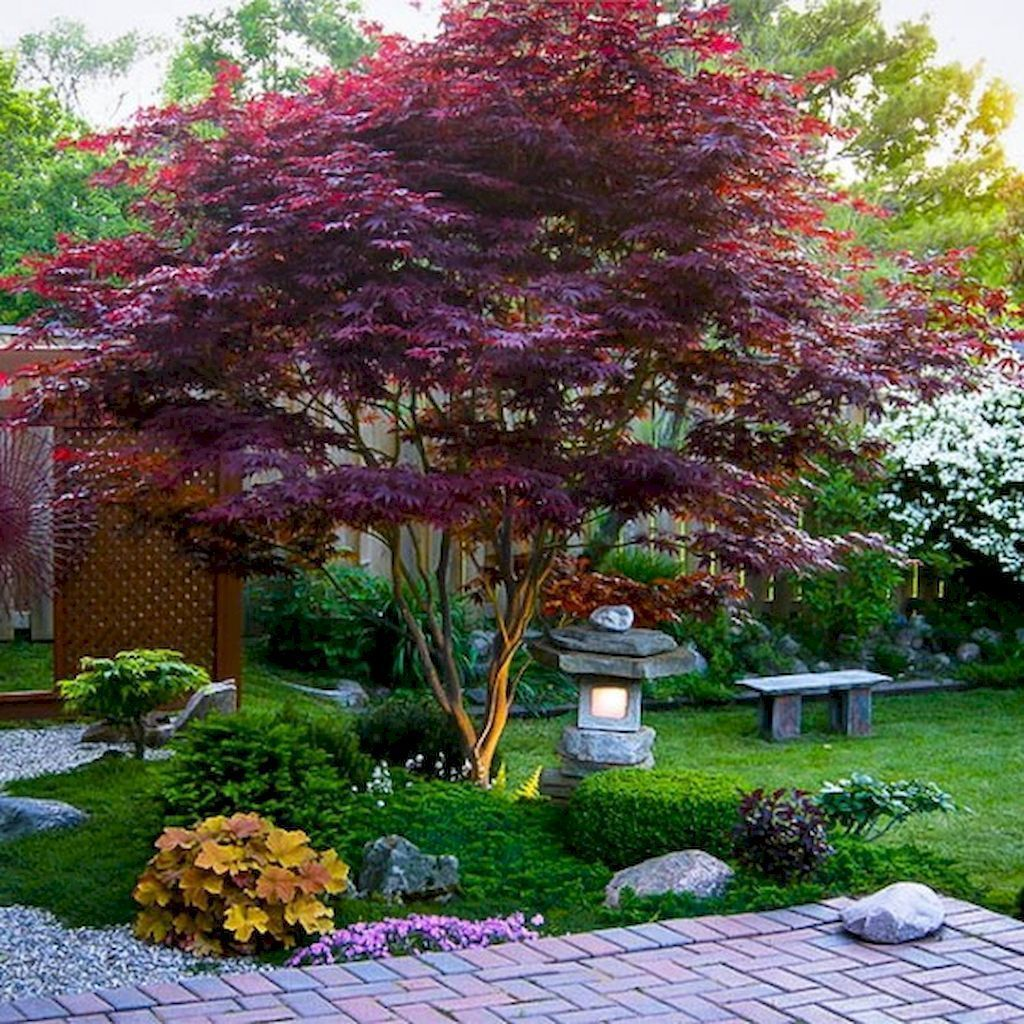bush: (145, 713, 374, 941), (556, 768, 770, 863)
tree: (53, 15, 858, 775)
